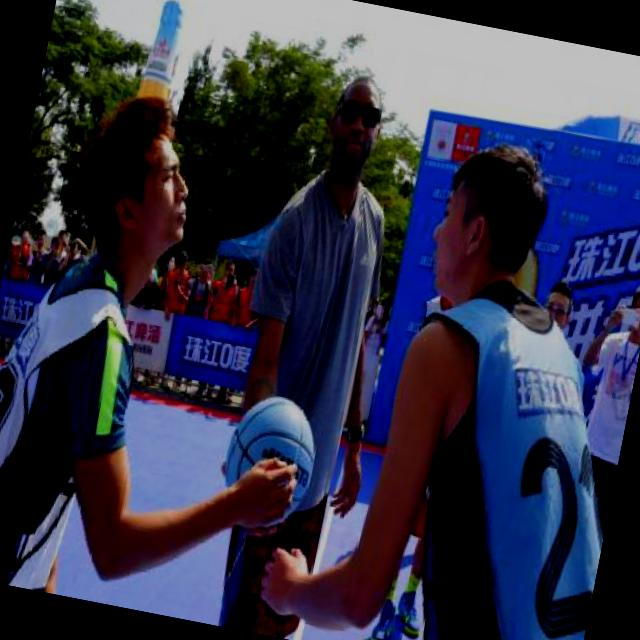Person: (343, 116, 640, 640), (202, 49, 438, 640), (0, 68, 212, 603)
